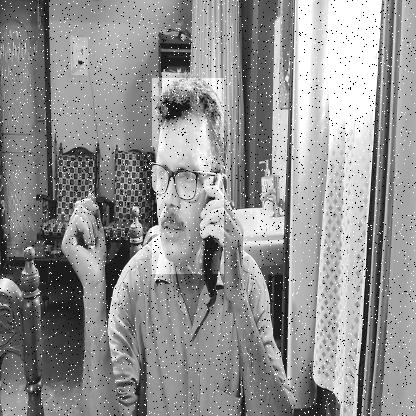Distracted: (152, 78, 224, 274)
